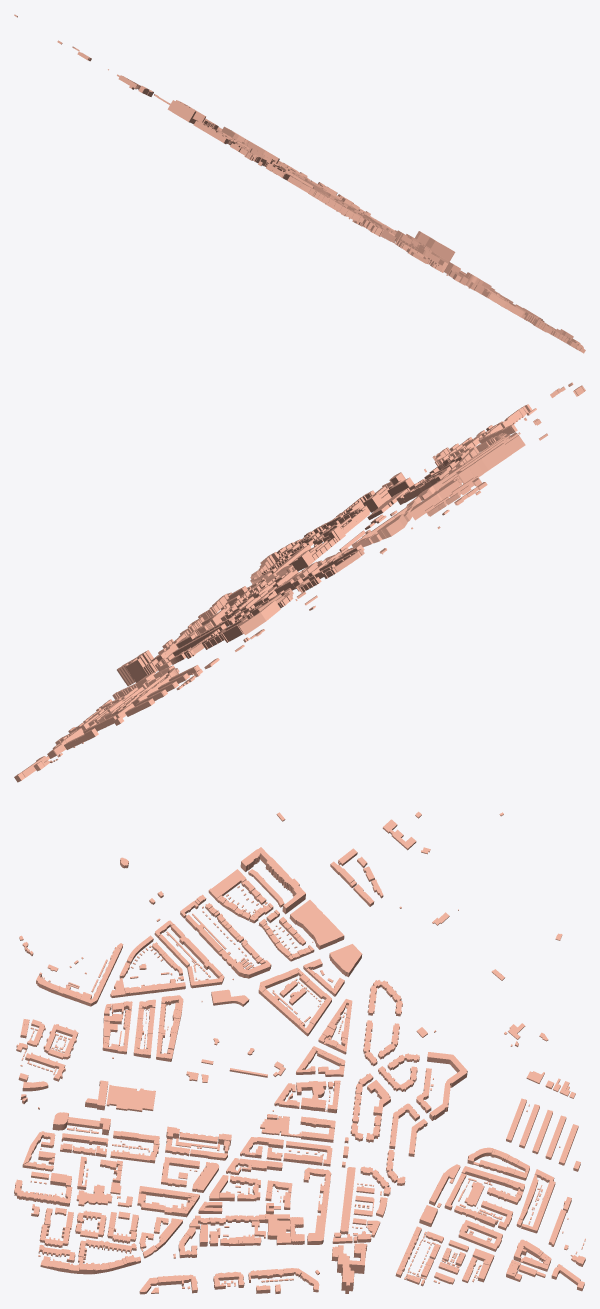
The picture shows the model from 3 angles, top to bottom: view 1: azimuth 30°, elevation 25°; view 2: azimuth 150°, elevation 25°; view 3: azimuth 270°, elevation 25°; orthographic projection. The views are drawn at different scales.
Bounding box in the file's own units: 969 × 737 × 1243.
